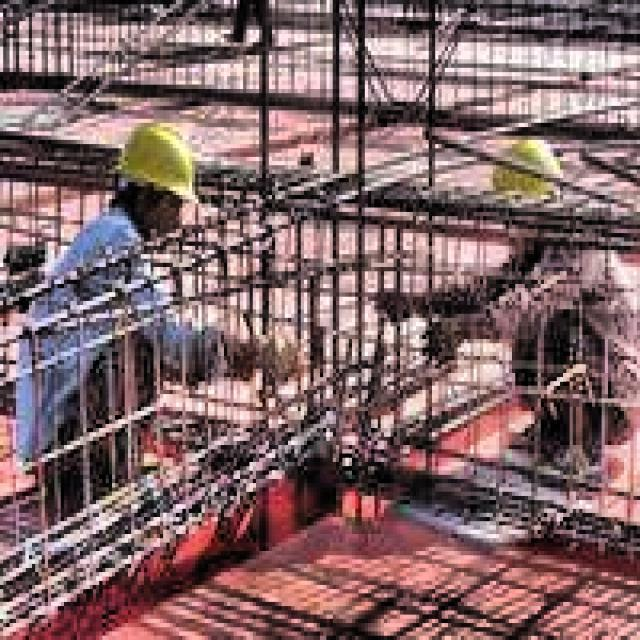helmet: (112, 115, 205, 238), (483, 131, 570, 246)
